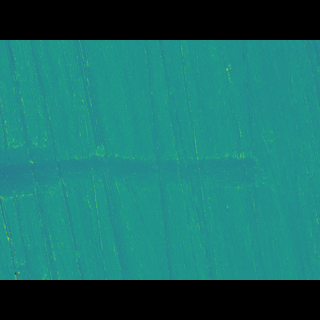Loch: (0, 145, 265, 190)
